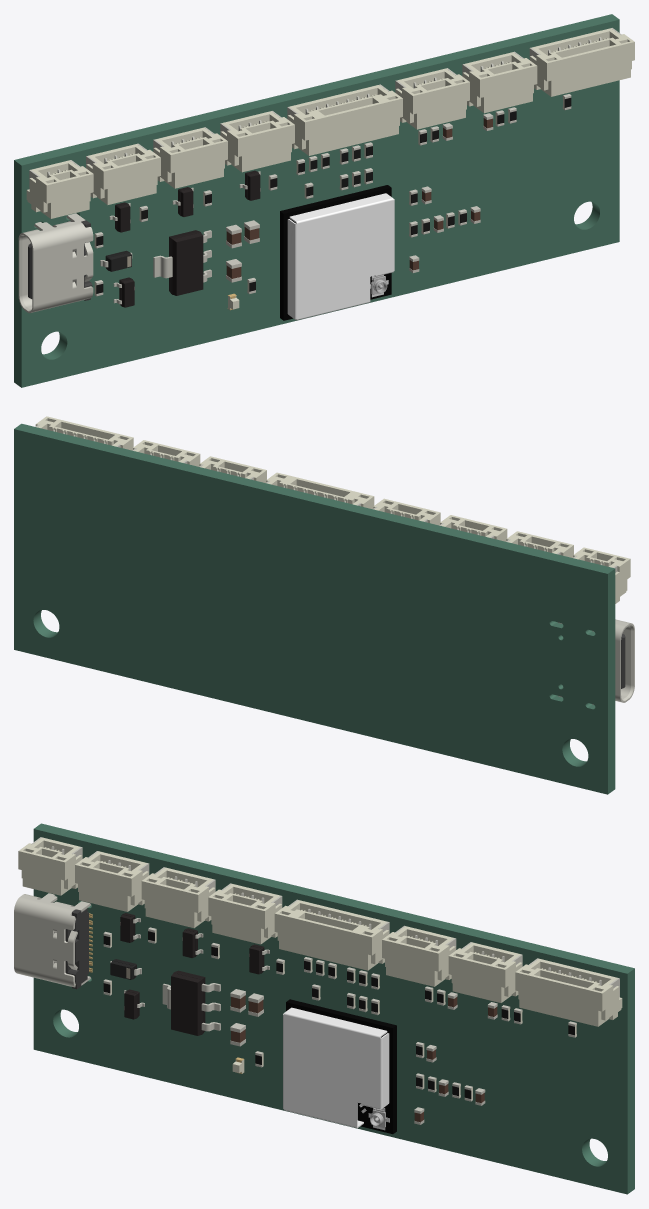
Rendered from board.glb.
The picture shows the model from 3 angles, top to bottom: view 1: azimuth 30°, elevation 25°; view 2: azimuth 150°, elevation 25°; view 3: azimuth 330°, elevation 25°; orthographic projection.
Parts seen in each view (by area): view 1: =>[0:1:1:28], =>[0:1:1:3]_4a3ad6, =>[0:1:1:11]_724aac, =>[0:1:1:17]_4ff1b7, =>[0:1:1:27]_f6be54, =>[0:1:1:13]_d05a03, =>[0:1:1:13]_3_b87072, =>[0:1:1:13]_2_d85421, =>[0:1:1:13]_1_6396c8, =>[0:1:1:13]_4_8ecb53, =>[0:1:1:23]_83a1dc, =>[0:1:1:25]_1b78b3 (+2 smaller); view 2: =>[0:1:1:28], =>[0:1:1:17]_4ff1b7, =>[0:1:1:11]_724aac, =>[0:1:1:27]_f6be54, =>[0:1:1:23]_83a1dc, =>[0:1:1:13]_4_8ecb53, =>[0:1:1:13]_3_b87072, =>[0:1:1:13]_1_6396c8, =>[0:1:1:13]_d05a03, =>[0:1:1:13]_2_d85421; view 3: =>[0:1:1:28], =>[0:1:1:3]_4a3ad6, =>[0:1:1:17]_4ff1b7, =>[0:1:1:27]_f6be54, =>[0:1:1:11]_724aac, =>[0:1:1:13]_4_8ecb53, =>[0:1:1:13]_3_b87072, =>[0:1:1:13]_d05a03, =>[0:1:1:13]_1_6396c8, =>[0:1:1:13]_2_d85421, =>[0:1:1:23]_83a1dc, =>[0:1:1:3]_91129f (+3 smaller).
Part boxes in pixels (x1,y1,x2,y2): =>[0:1:1:28]: (14, 14, 619, 387); =>[0:1:1:3]_4a3ad6: (287, 193, 394, 320); =>[0:1:1:11]_724aac: (18, 213, 93, 313); =>[0:1:1:17]_4ff1b7: (287, 85, 402, 155); =>[0:1:1:27]_f6be54: (530, 28, 634, 96); =>[0:1:1:13]_d05a03: (86, 144, 160, 204); =>[0:1:1:13]_3_b87072: (462, 52, 537, 113); =>[0:1:1:13]_2_d85421: (395, 68, 469, 129); =>[0:1:1:13]_1_6396c8: (220, 111, 294, 172); =>[0:1:1:13]_4_8ecb53: (153, 127, 227, 188); =>[0:1:1:23]_83a1dc: (26, 160, 93, 218); =>[0:1:1:25]_1b78b3: (169, 230, 203, 295); =>[0:1:1:28]: (14, 423, 615, 794); =>[0:1:1:17]_4ff1b7: (266, 472, 374, 508); =>[0:1:1:11]_724aac: (558, 619, 634, 704); =>[0:1:1:27]_f6be54: (35, 416, 133, 450); =>[0:1:1:23]_83a1dc: (573, 547, 630, 603); =>[0:1:1:13]_4_8ecb53: (440, 515, 507, 541); =>[0:1:1:13]_3_b87072: (133, 440, 200, 466); =>[0:1:1:13]_1_6396c8: (373, 498, 440, 525); =>[0:1:1:13]_d05a03: (506, 531, 573, 557); =>[0:1:1:13]_2_d85421: (199, 456, 266, 482); =>[0:1:1:28]: (33, 823, 634, 1194); =>[0:1:1:3]_4a3ad6: (283, 1007, 389, 1128); =>[0:1:1:17]_4ff1b7: (274, 900, 389, 970); =>[0:1:1:27]_f6be54: (515, 958, 622, 1026); =>[0:1:1:11]_724aac: (14, 893, 90, 987); =>[0:1:1:13]_4_8ecb53: (141, 867, 215, 928); =>[0:1:1:13]_3_b87072: (448, 942, 522, 1002); =>[0:1:1:13]_d05a03: (75, 851, 148, 911); =>[0:1:1:13]_1_6396c8: (208, 884, 281, 944); =>[0:1:1:13]_2_d85421: (382, 926, 455, 986); =>[0:1:1:23]_83a1dc: (18, 837, 82, 895); =>[0:1:1:3]_91129f: (286, 999, 396, 1134).
Size of the model in its own units: 73.69 by 26 by 5.89.
